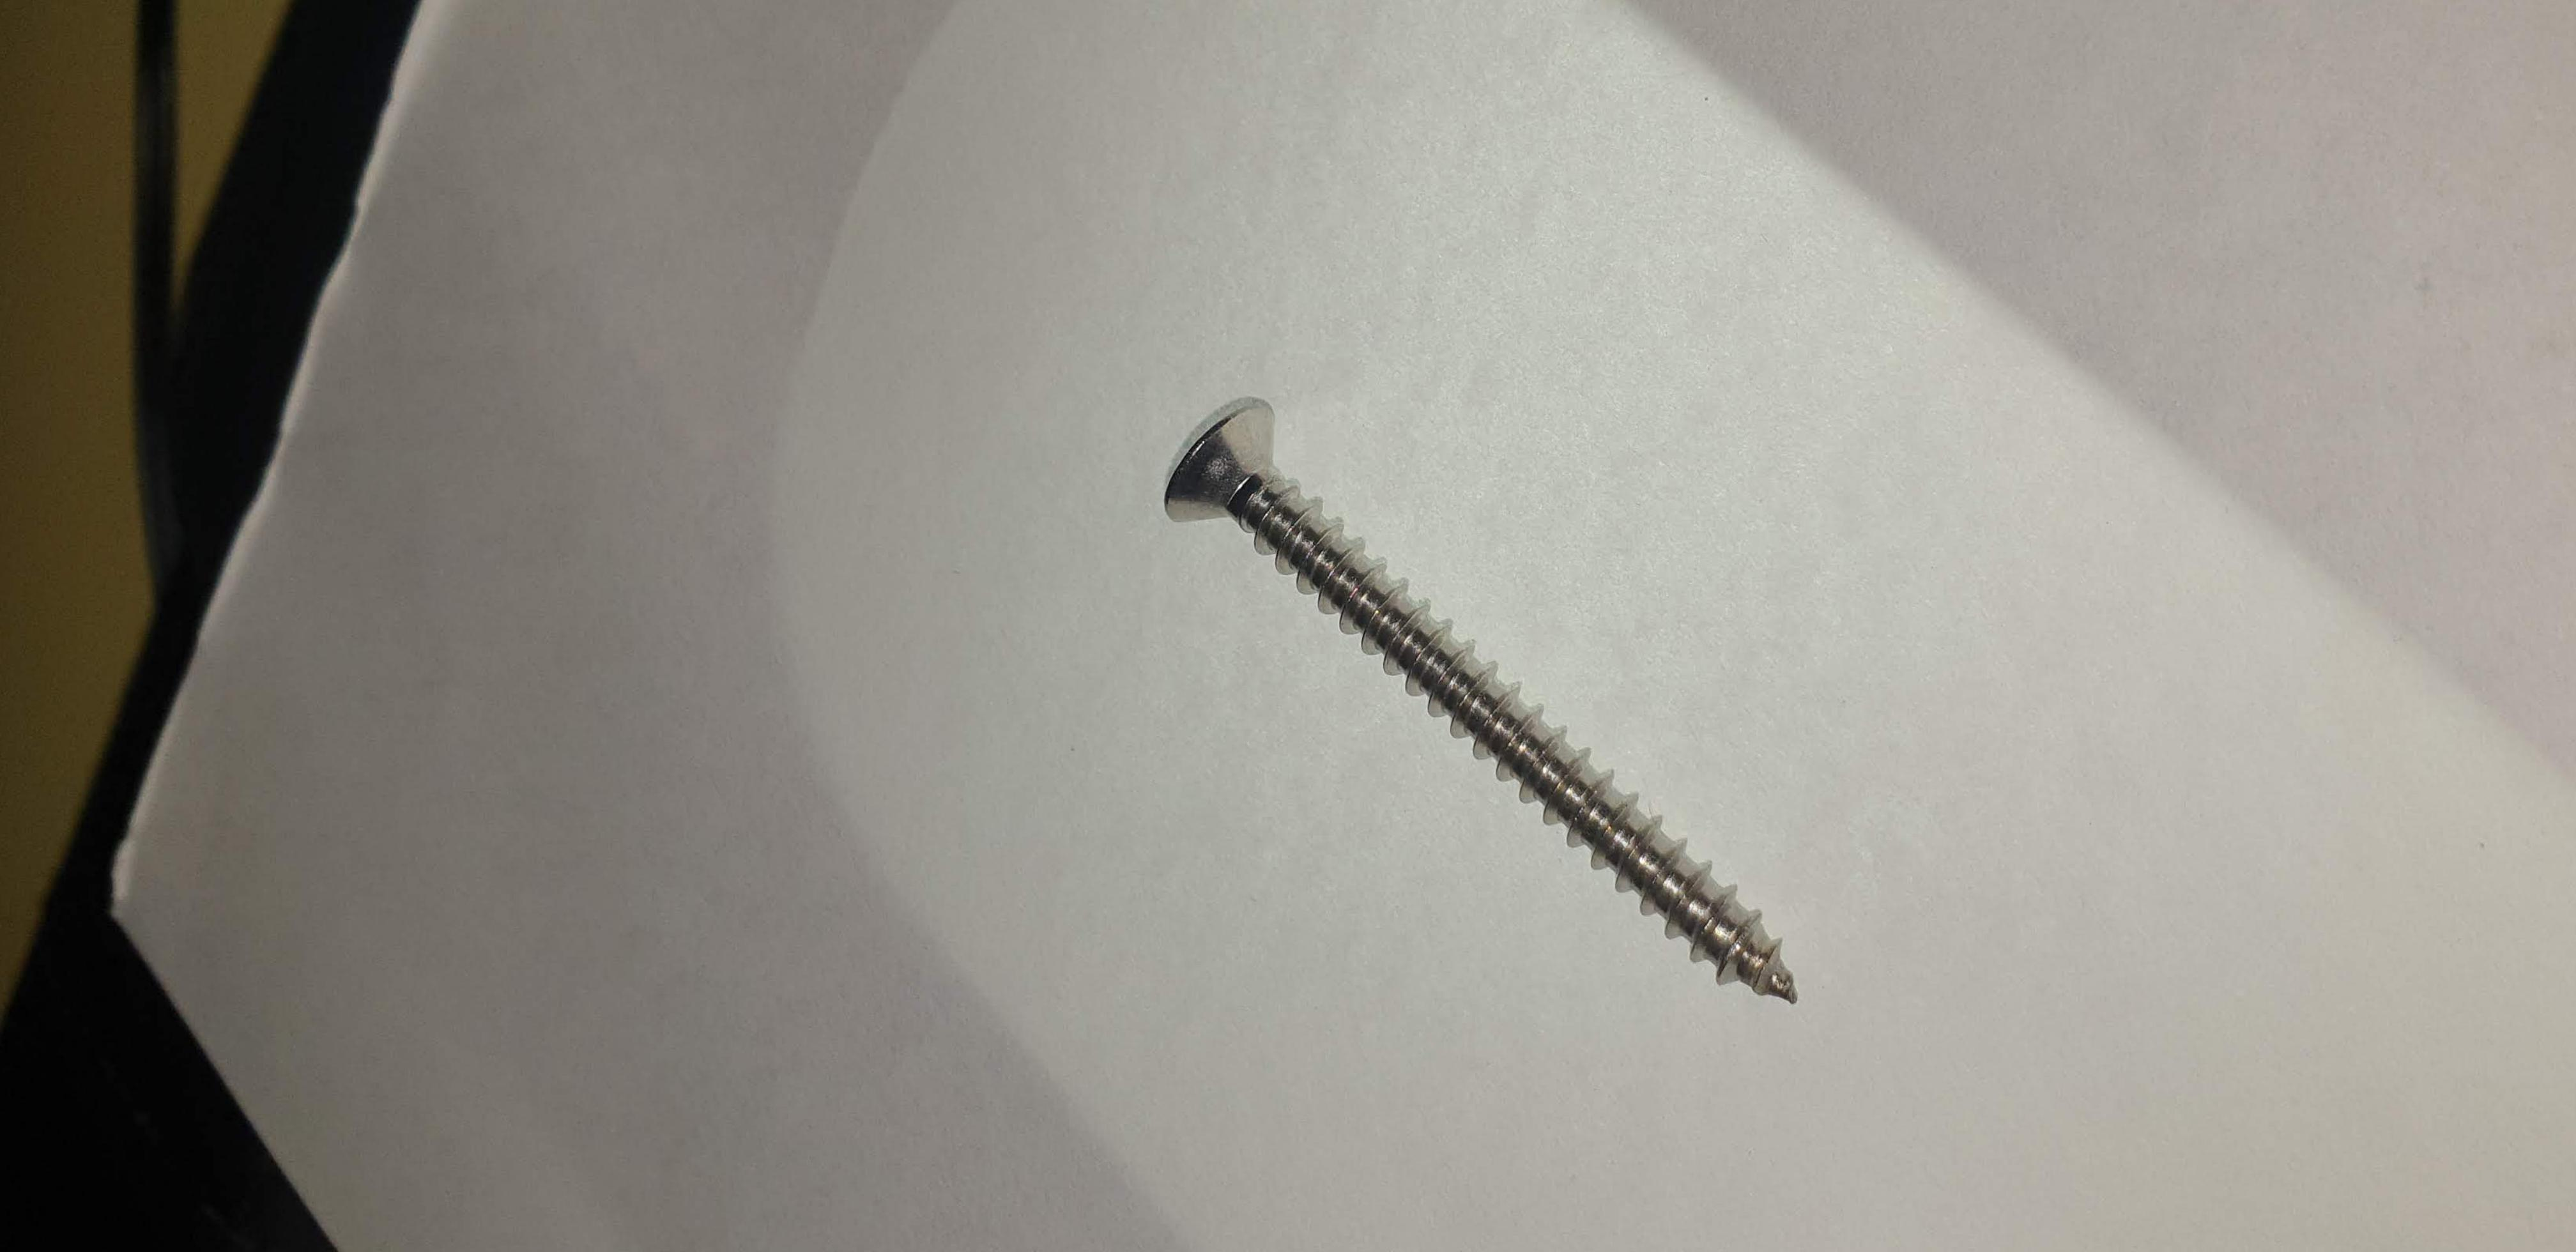fastener: (1051, 348, 1920, 1079)
